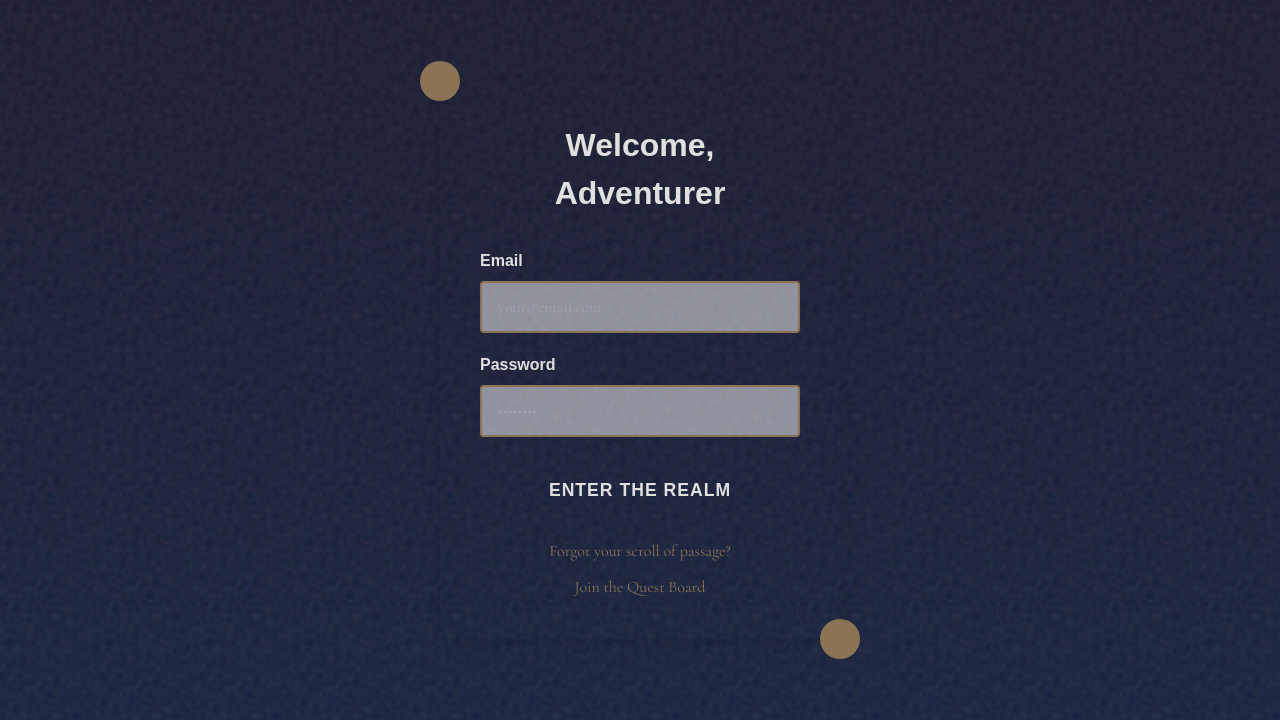
Test: Login Component › shows error message on invalid credentials
In the field with placeholder "your@email.com": (640, 307) left=480, top=281, right=800, bottom=333, type "test@example.com"
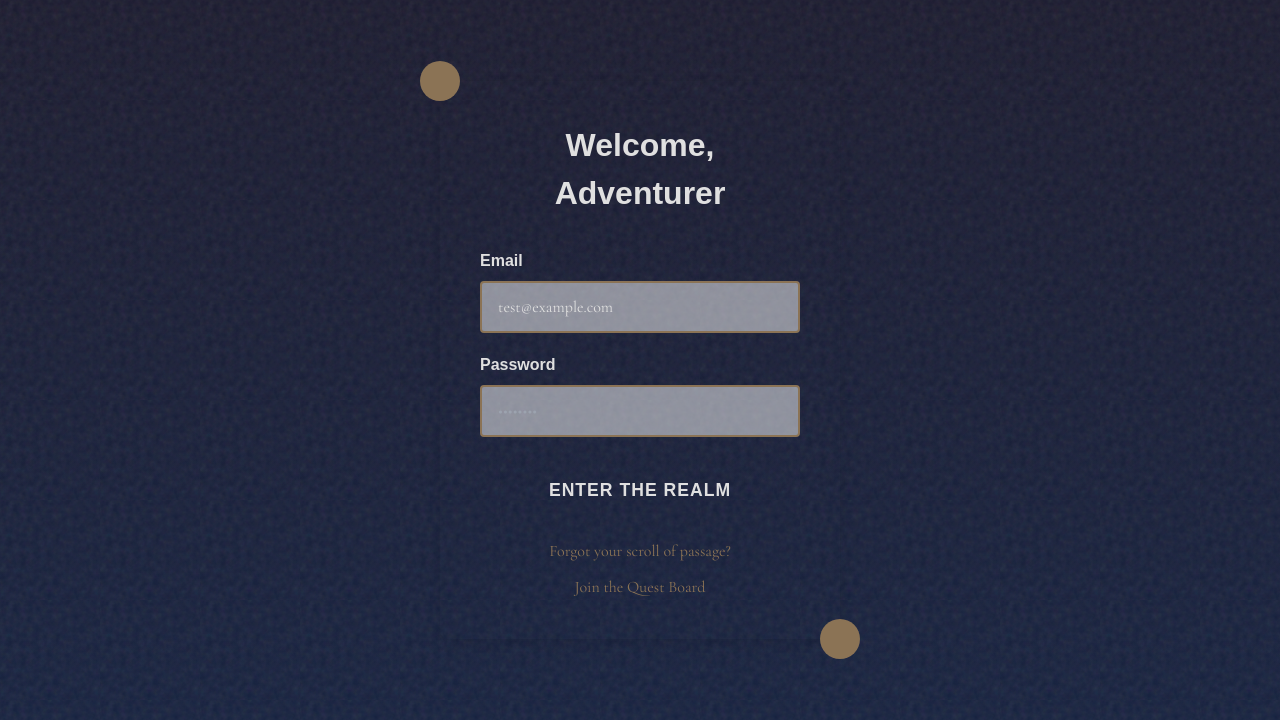
In the password field with placeholder "••••••••": (640, 411) left=480, top=385, right=800, bottom=437, type "wrongpassword"
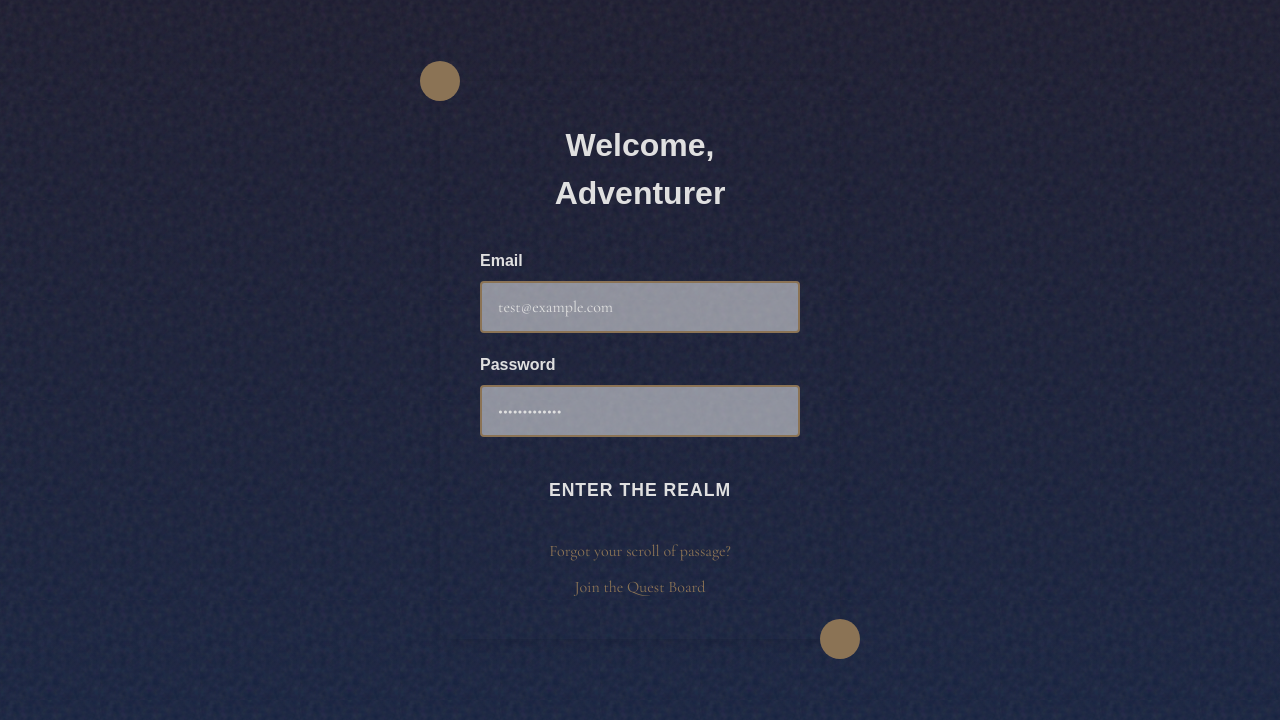
Click the button "Enter the Realm": (640, 490) left=480, top=465, right=800, bottom=515
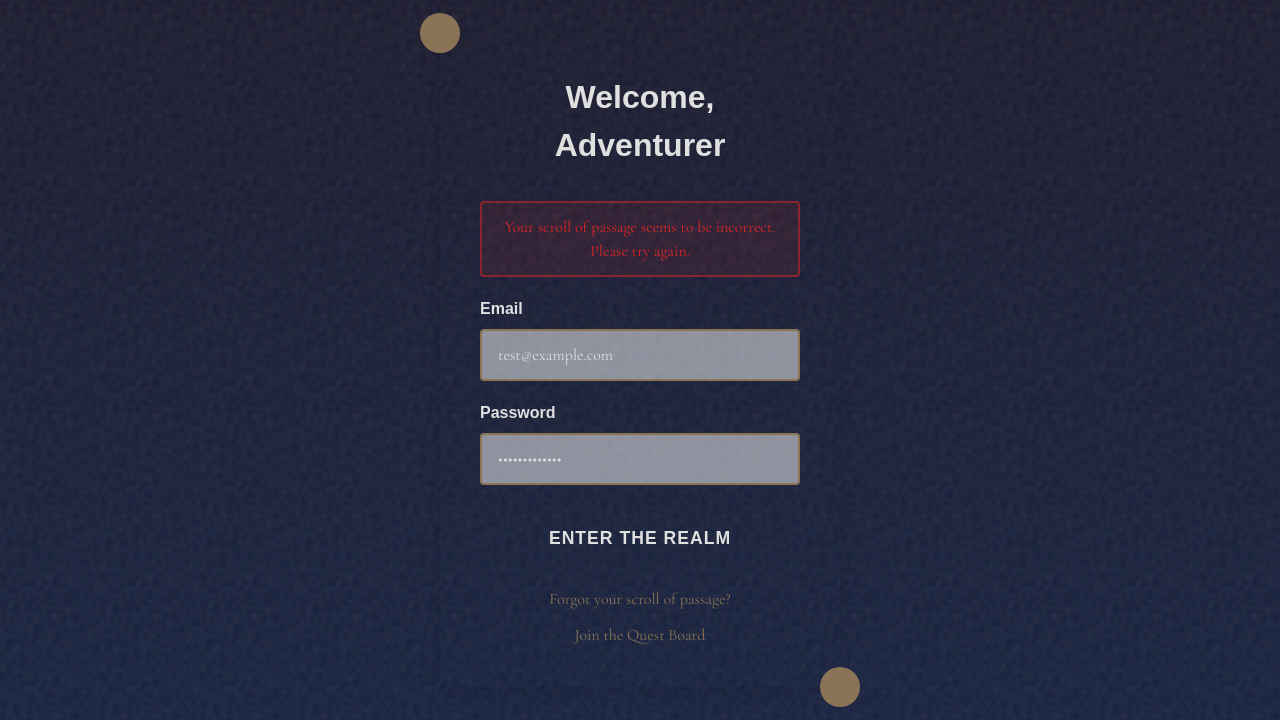
Now the text "Your scroll of passage seems to be incorrect" is shown, box left=504, top=217, right=776, bottom=261
